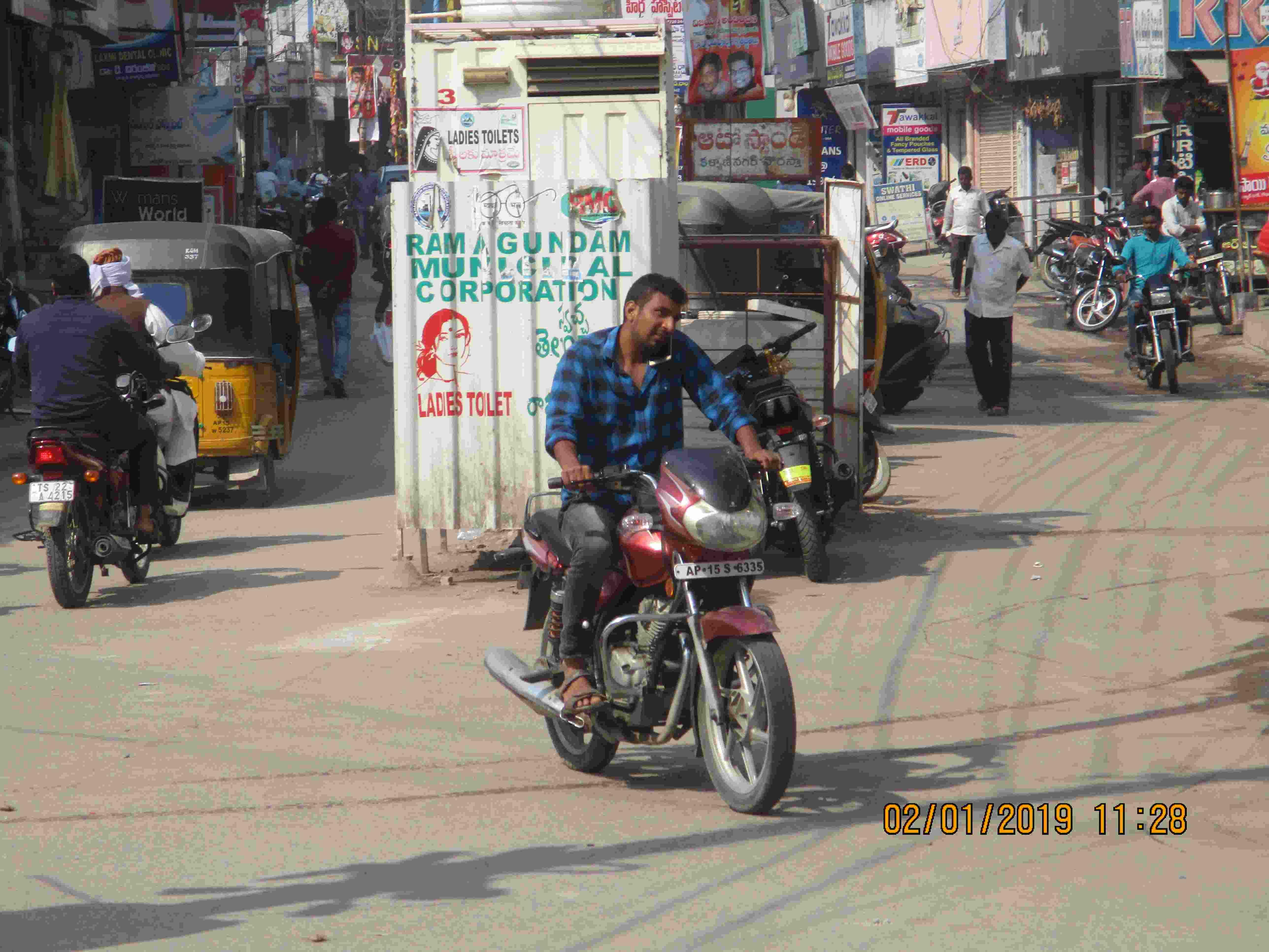plate: (667, 547, 778, 583), (19, 474, 82, 508)
